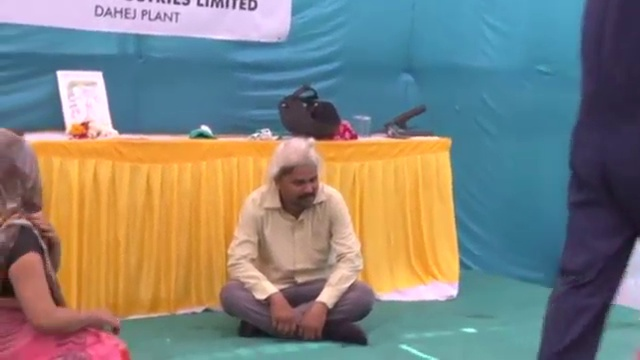helmet_off: (1, 125, 41, 221), (272, 145, 320, 210)
person: (538, 2, 639, 360), (220, 138, 379, 348), (1, 125, 142, 360)
